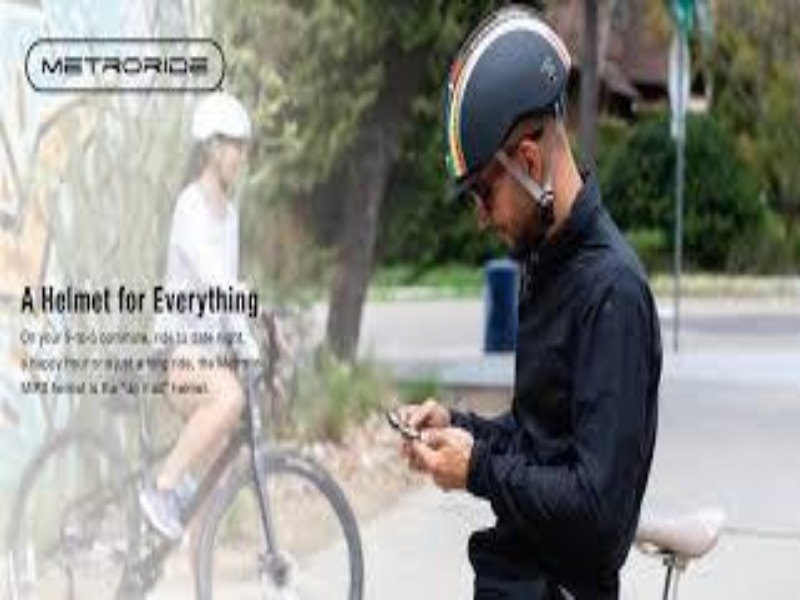helmet: (444, 10, 579, 182), (194, 93, 254, 140)
